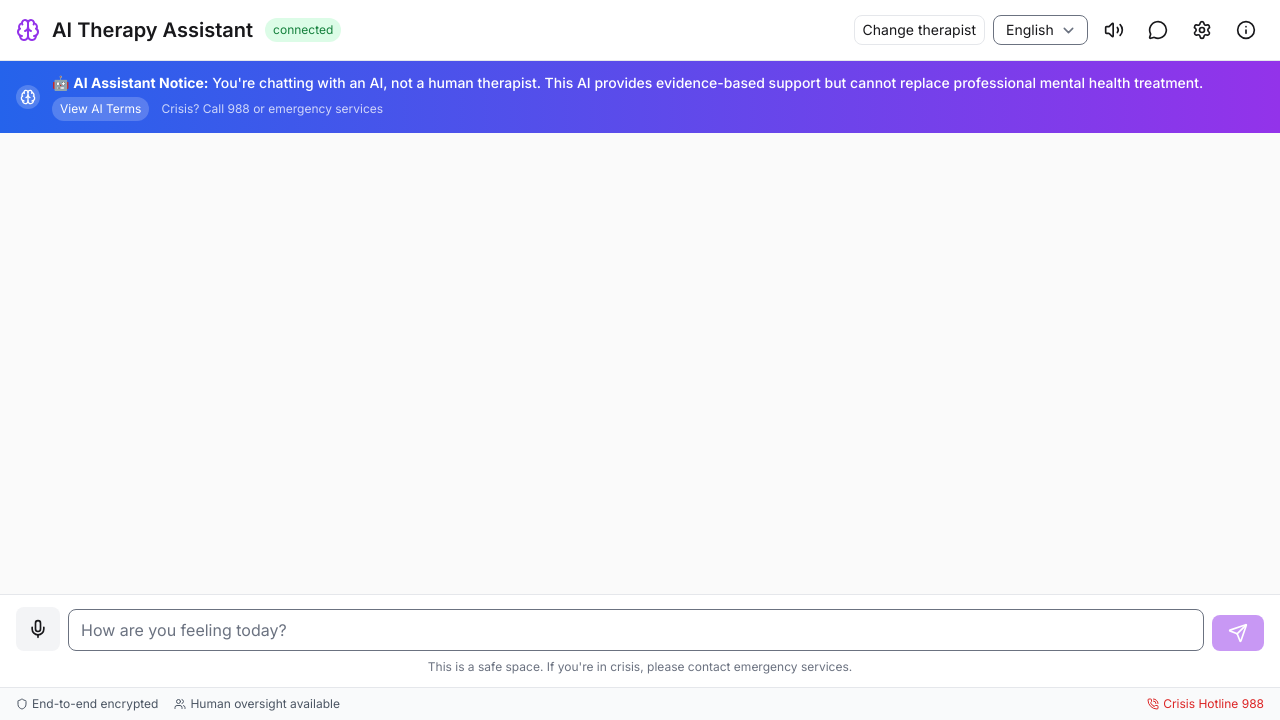
AITherapyInterface › maintains conversation history
This screenshot has width=1280, height=720.
# Send first message
Type "Hello" into the text box with placeholder "How are you feeling today?" at coordinates (636, 630), box [68,609,1204,651]
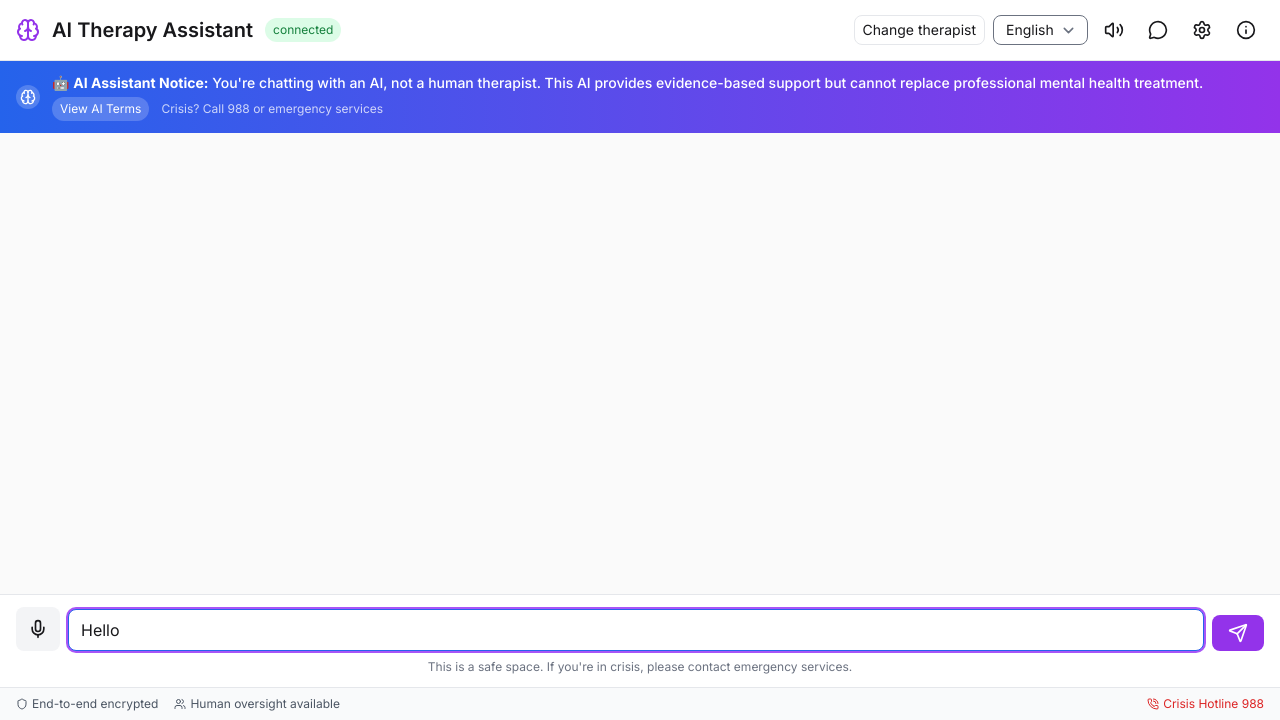
Click the button named "send" at coordinates (1238, 633), box [1212,615,1264,651]
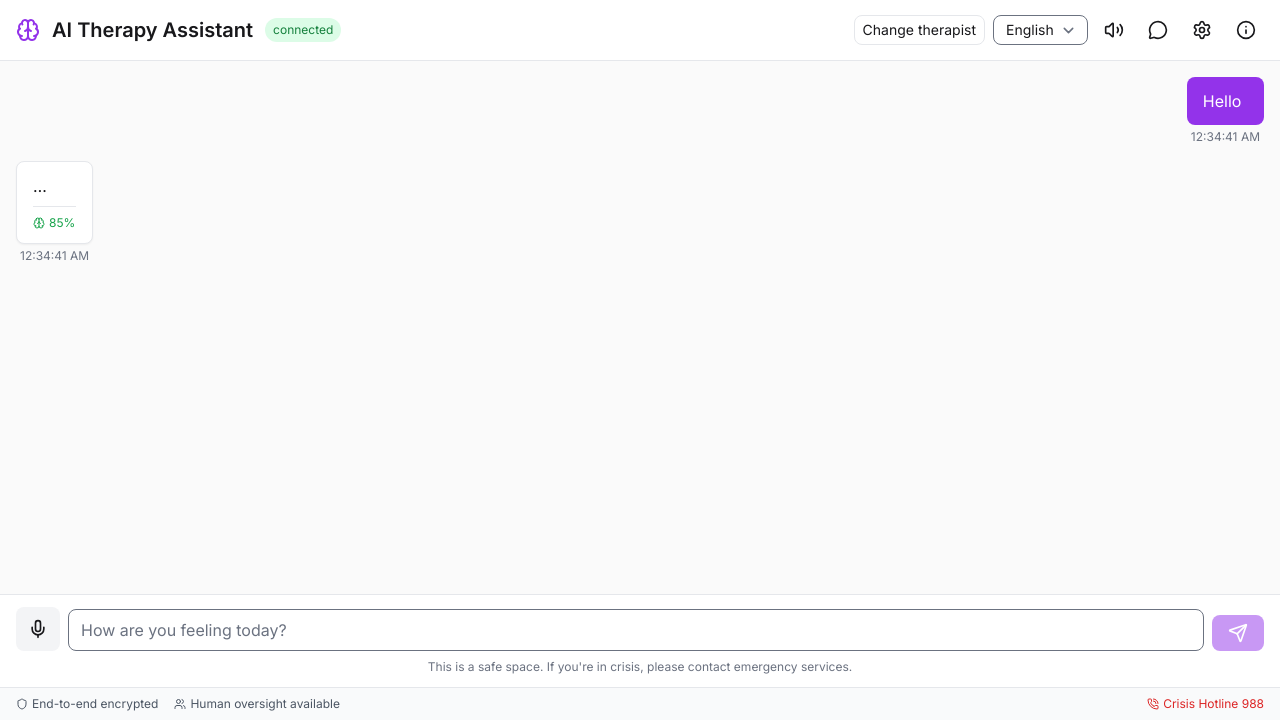
# Clear and send second message
Type "I need help" into the text box with placeholder "How are you feeling today?" at coordinates (636, 630), box [68,609,1204,651]
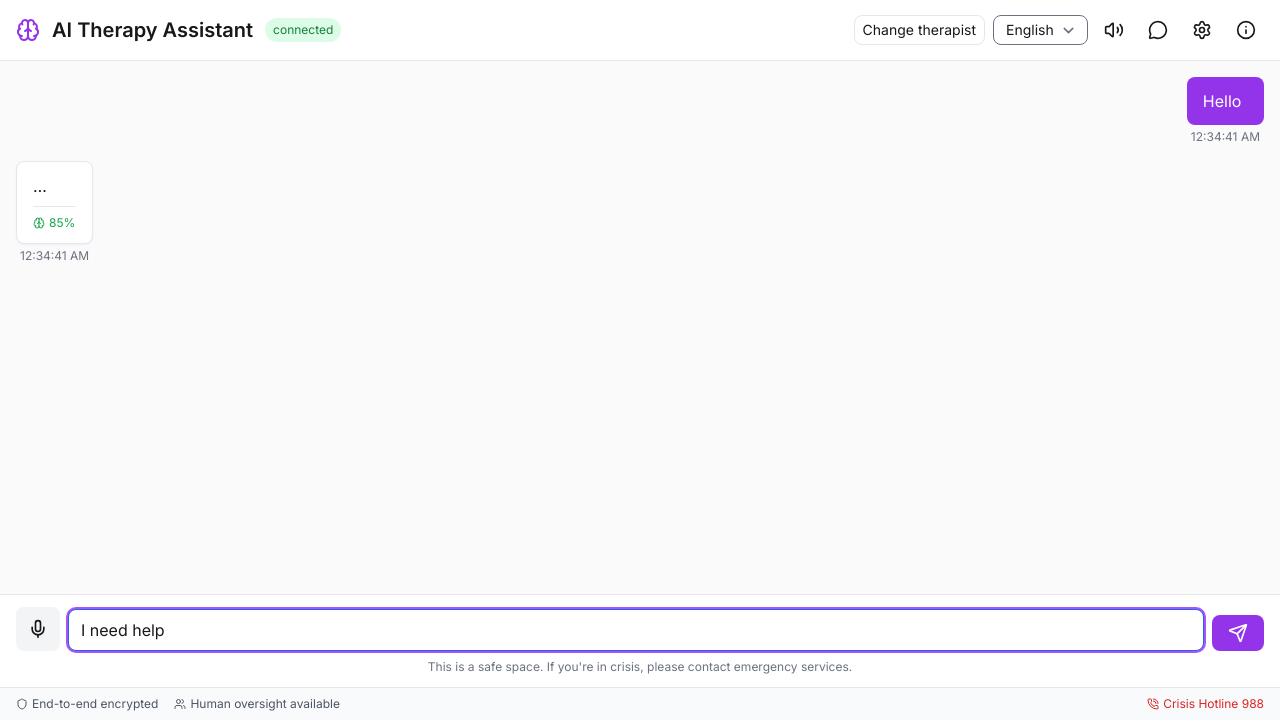
Click the button named "send" at coordinates (1238, 633), box [1212,615,1264,651]
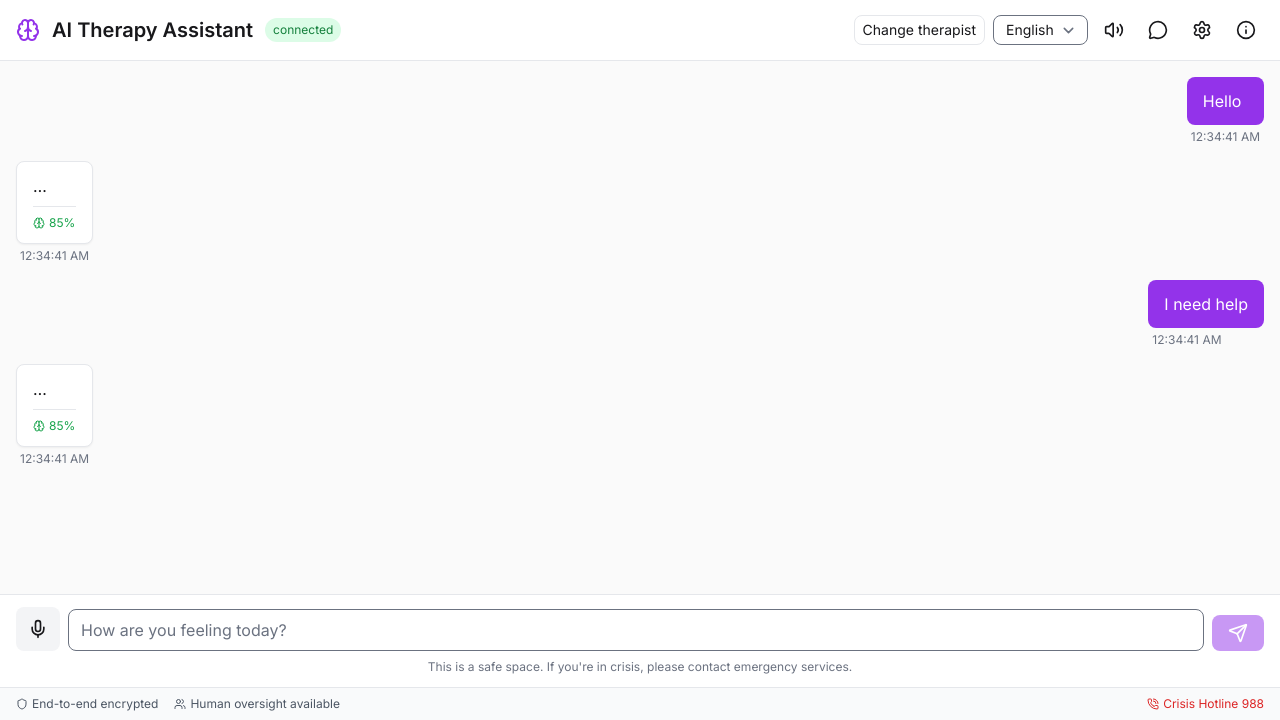
Expected: the text "Hello" is shown, [1203,89,1248,113]
Expected: the text "I need help" is shown, [1164,292,1248,316]
